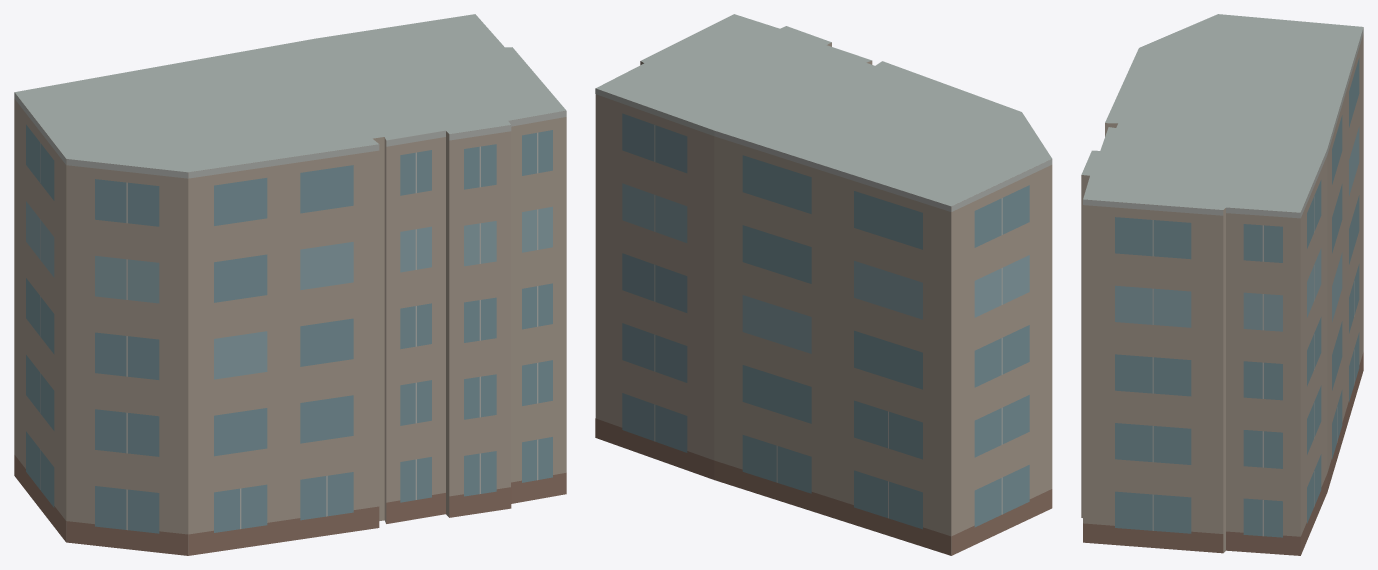
The model's file is survey-upis-32962923.glb.
3 views of the same model, side by side, from view 1: azimuth 30°, elevation 25°; view 2: azimuth 150°, elevation 25°; view 3: azimuth 270°, elevation 25° (orthographic). The views are drawn at different scales.
Visible parts, largest first — view 1: survey-upis-32962923.tmp; view 2: survey-upis-32962923.tmp; view 3: survey-upis-32962923.tmp.
Part boxes in pixels (x1=…): survey-upis-32962923.tmp: x1=14, y1=14, x2=566, y2=555; survey-upis-32962923.tmp: x1=595, y1=14, x2=1052, y2=555; survey-upis-32962923.tmp: x1=1081, y1=14, x2=1363, y2=555.
Bounding box in the file's own units: 18.46 × 14.85 × 11.08.
